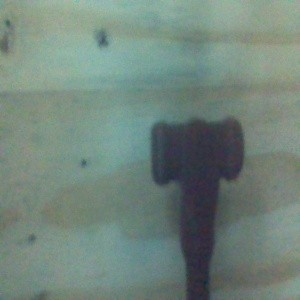palu: (150, 115, 245, 300)
